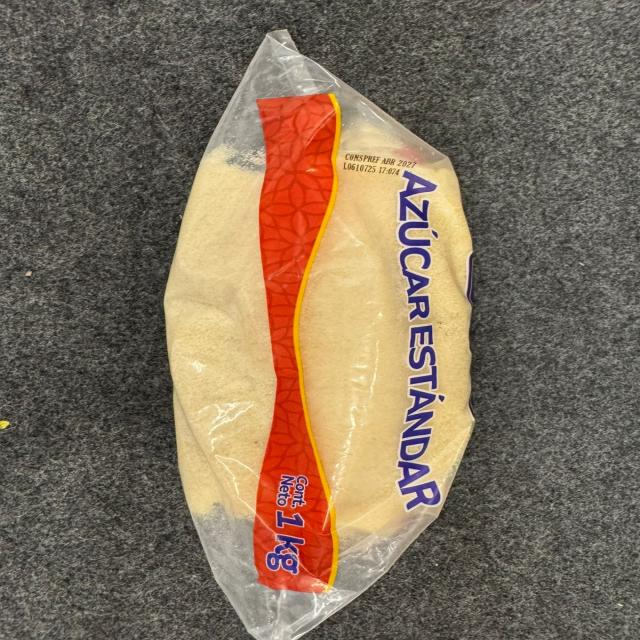Azucar Estandar La Posada 1 kg: (160, 26, 480, 636)
